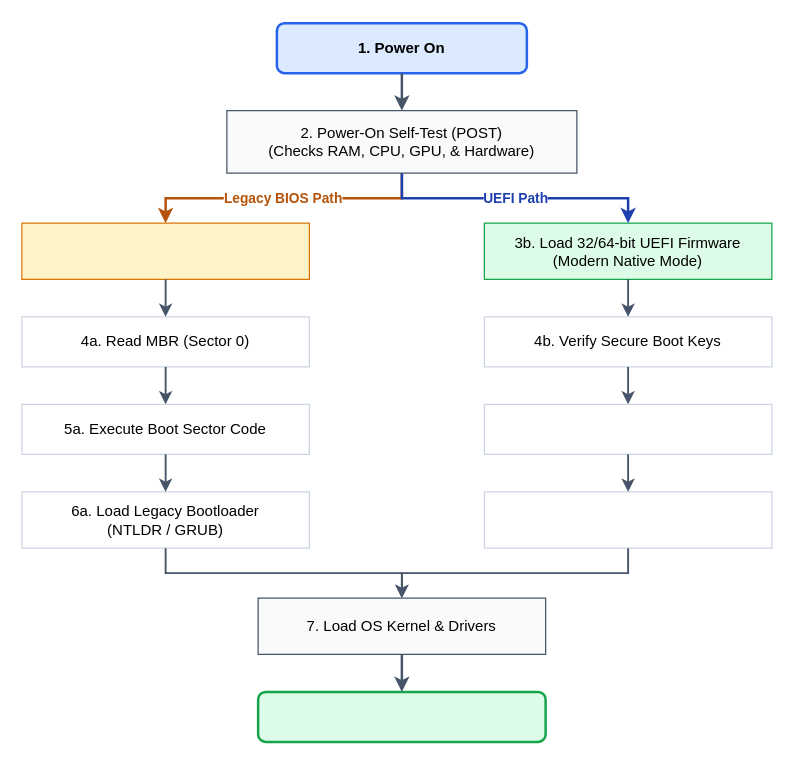
Image size: 794x764. Some labels were removed from this diagram. The shapes that lost their labels are listed below. From the top down, each one's centre as x and y in pixels, then its label:
point (165, 250): 3a. Load 16-bit BIOS Firmware (Legacy Real Mode)
point (627, 428): 5b. Read EFI System Partition (ESP)
point (627, 519): 6b. Load EFI Bootloader (bootmgfw.efi / GRUB2)
point (401, 716): 8. Launch OS Desktop / Shell
